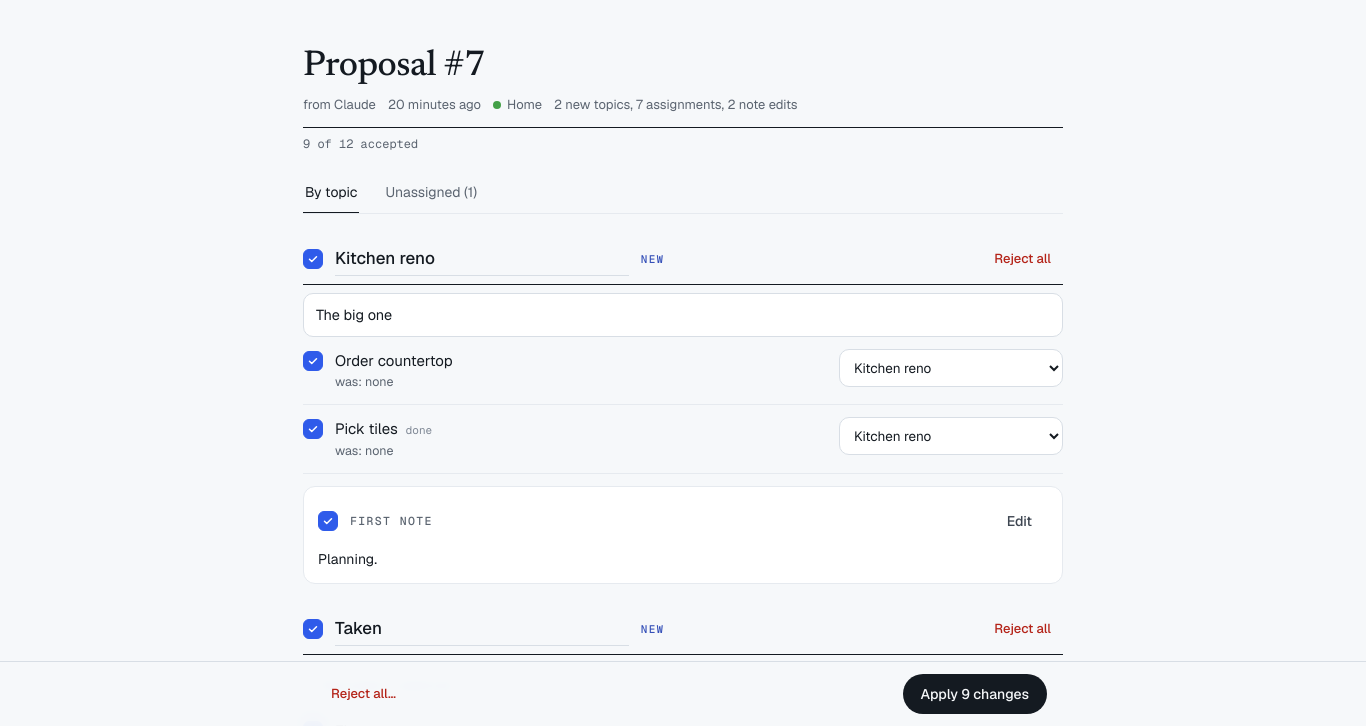
Test: ProposalReview › people › a 422 at new_todos[0].people[0] shows an inline alert on the chip and reopens it
The image size is (1366, 726).
Click the button "Apply 9 changes": (975, 694) x1=903 y1=674 x2=1047 y2=714
(page scrolled)
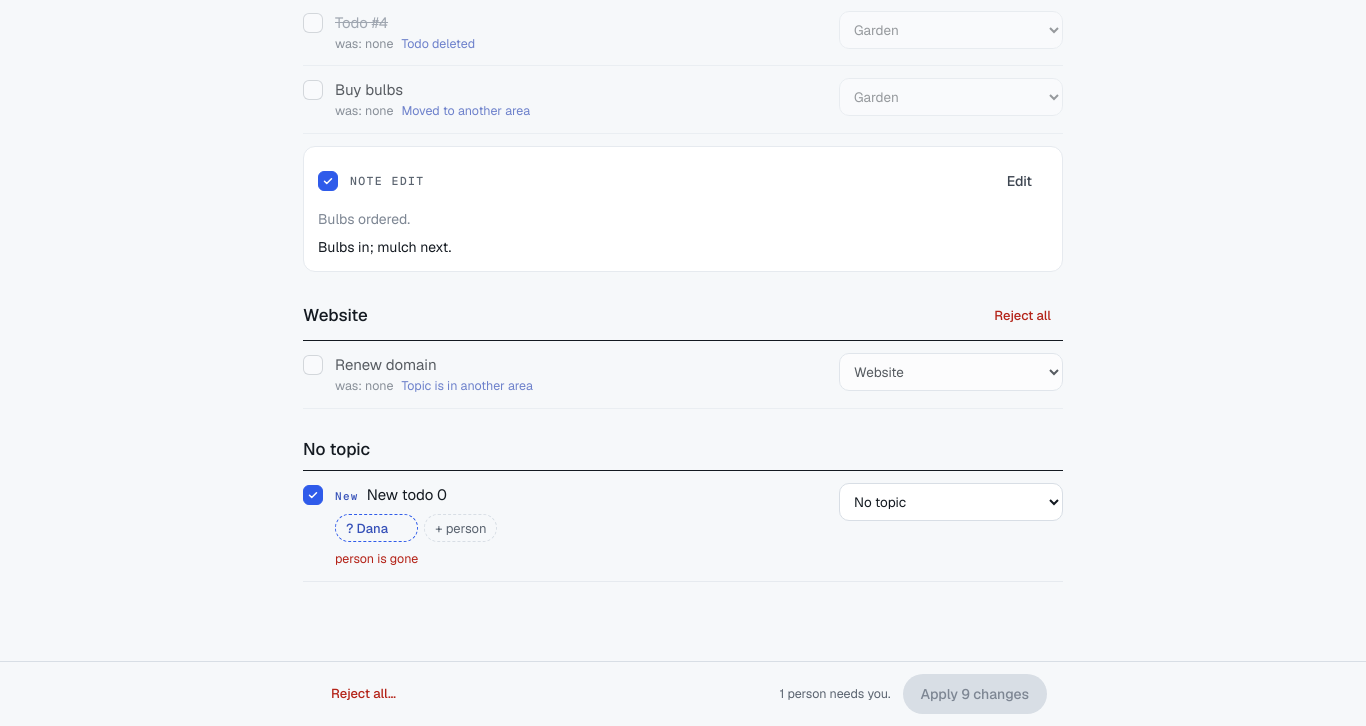
Expected: the text "person is gone" is shown, x1=335 y1=550 x2=418 y2=569
Expected: the button "? Dana" is shown, x1=335 y1=514 x2=418 y2=542
Expected: the button "Apply 9 changes" is disabled, x1=903 y1=674 x2=1047 y2=714
